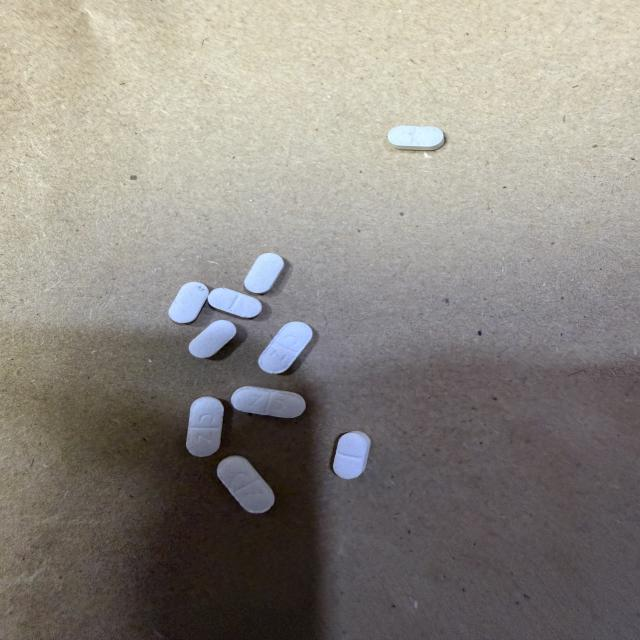pill: (217, 456, 274, 513), (259, 322, 312, 373), (231, 387, 305, 418), (187, 397, 223, 456), (189, 320, 236, 358), (333, 431, 370, 479), (169, 282, 208, 323), (245, 253, 284, 293), (209, 288, 261, 318), (388, 126, 444, 150)
